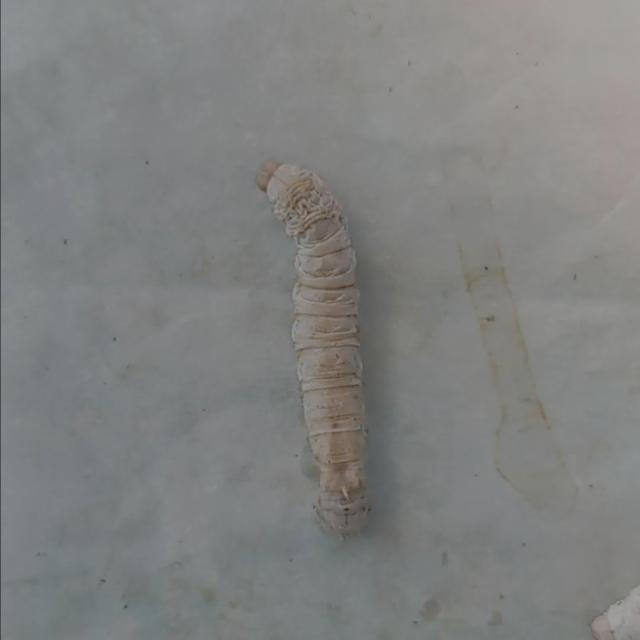Grasserie: (225, 141, 422, 557)
